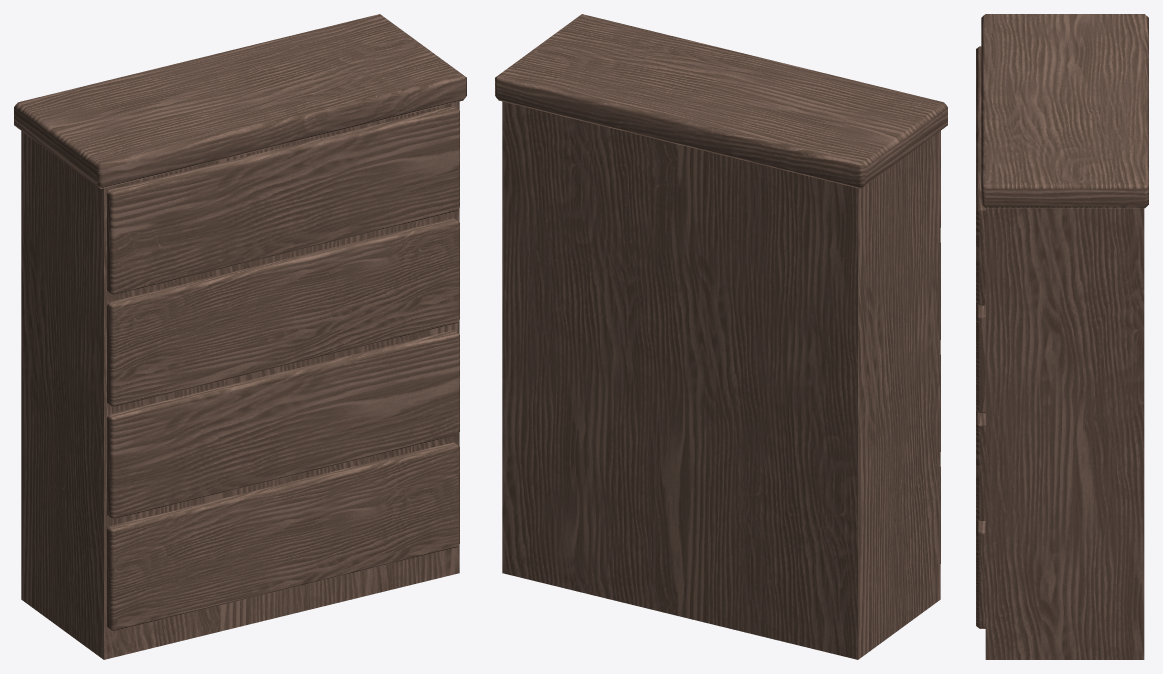
The model's file is dresser_010.fbx.
3 views of the same model, side by side, from view 1: azimuth 30°, elevation 25°; view 2: azimuth 150°, elevation 25°; view 3: azimuth 270°, elevation 25° (orthographic). The views are drawn at different scales.
Visible parts, largest first — view 1: dresser_010; view 2: dresser_010; view 3: dresser_010.
Part boxes in pixels (x1=…): dresser_010: x1=14, y1=14, x2=466, y2=659; dresser_010: x1=495, y1=14, x2=947, y2=659; dresser_010: x1=976, y1=14, x2=1148, y2=659.
Size of the model in its own units: 87.32 by 36.82 by 112.
